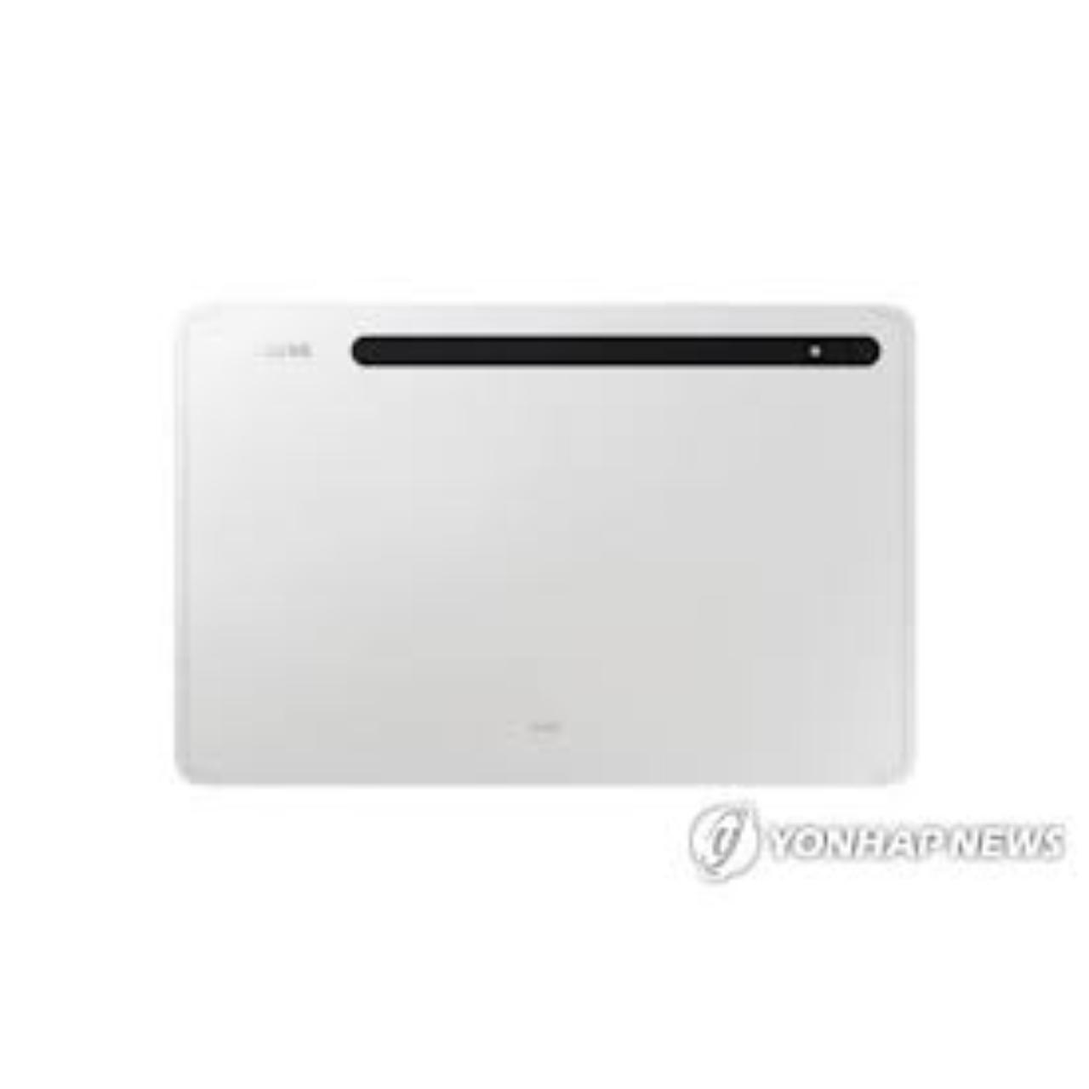Tablet_PC: (171, 295, 918, 792)
